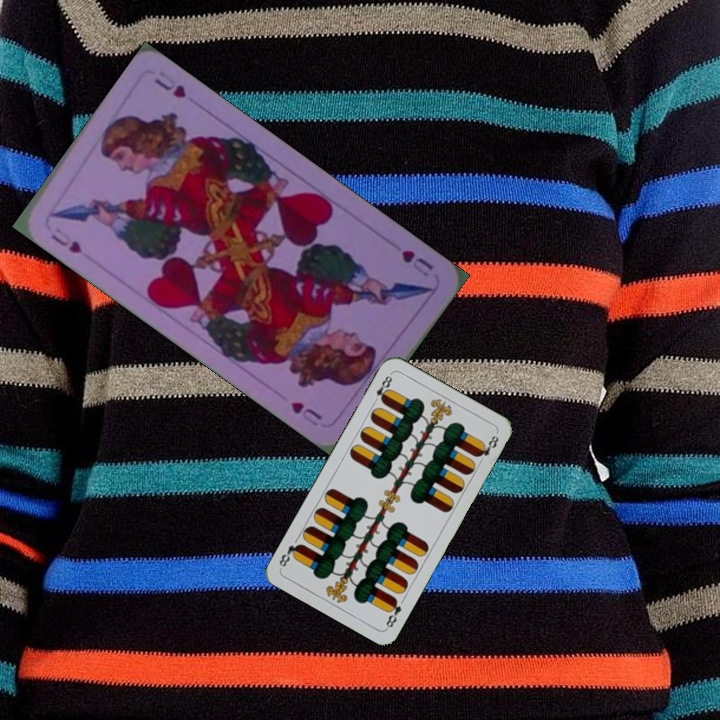E8: (369, 370, 395, 407), (382, 594, 404, 631)
HU: (397, 245, 437, 280), (46, 223, 84, 256)
